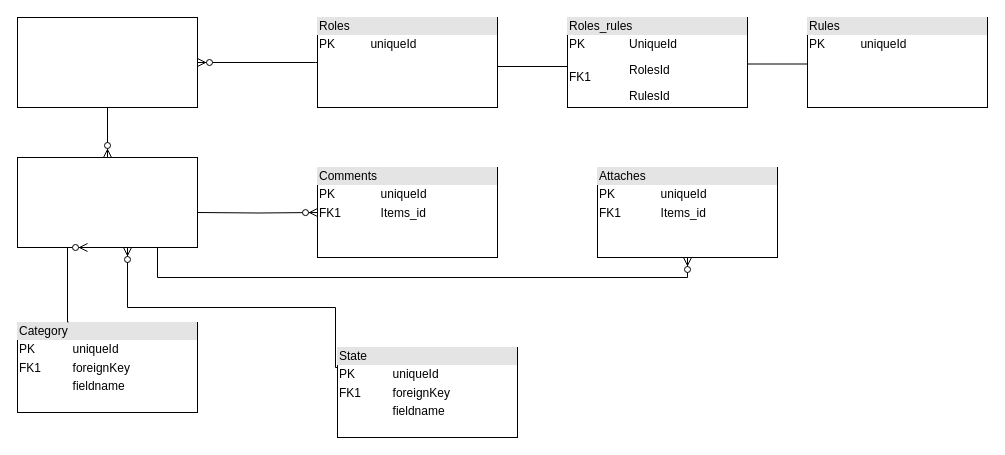
This 1005x455 diagram has some shape labels left out. The shapes that lost their labels are listed below. From the top down, each one's centre as x and y in pixels, then its label:
the point at 107,62: Users PK uniqueId FK1 Roles_id
the point at 107,202: Items PK uniqueId FK1 Users_id Category_id State_id
